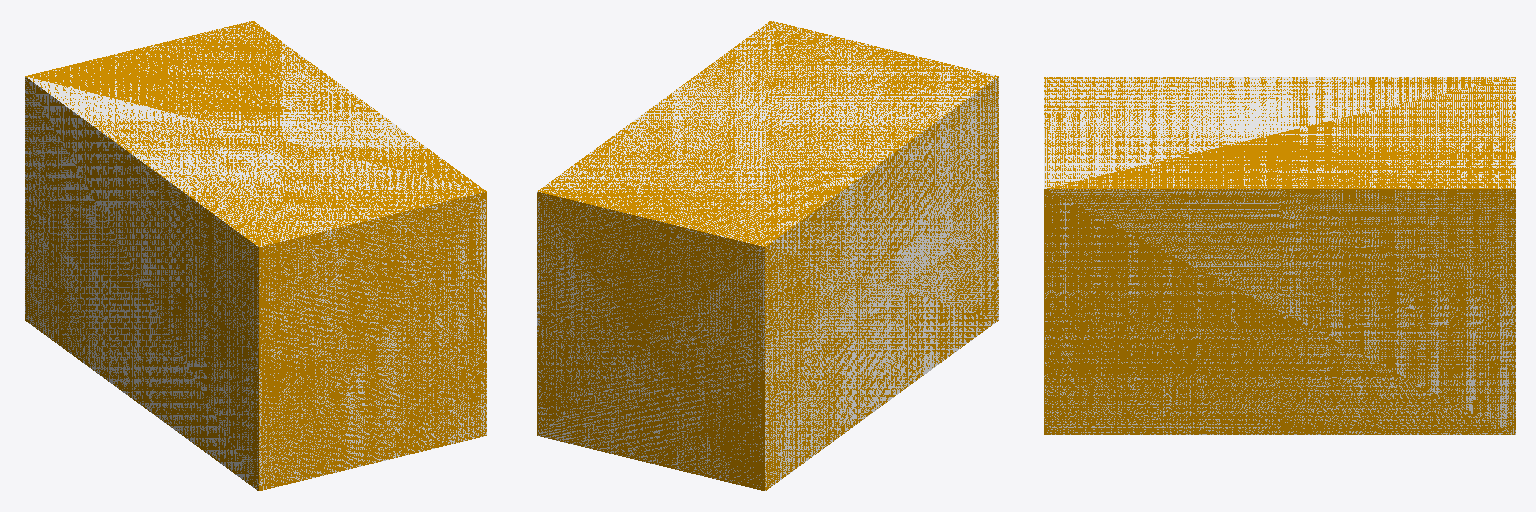
The robot description file, URDF, robot "my_object":
<?xml version="1.0" ?> 
<robot name="my_object" static="true">
  <link name="base_link">
  <inertial>
    <mass value="0.013" />
    <origin xyz="0 0 0.0" />
    <inertia ixx="1.0" ixy="0.0" ixz="0.0" iyy="1.0" iyz="0.0" izz="1.0"/>
  </inertial>
  <visual>
   <origin xyz="0 0 0.0" rpy="0 0 0" />
   <geometry>
     <mesh filename="package://cob_gazebo_objects/Media/models/medication_cetebe_empty.dae"/>
   </geometry>
  </visual>
  <collision>
   <origin xyz="0 0 0" rpy="0 0 0" />
   <geometry>
     <box size="0.057 0.102 0.059" />
   </geometry>
  </collision>     
  </link>

<gazebo>
	<static>true</static>
</gazebo>
</robot>

--- Facts derived from the render (not from the file) ---
3 views of the same robot in one strip: view 1: azimuth 30°, elevation 25°; view 2: azimuth 150°, elevation 25°; view 3: azimuth 270°, elevation 25° (orthographic).
Robot: my_object — 1 links, 0 joints (none); root link base_link; default pose: every joint at zero.
Links seen in each view (by area): view 1: base_link; view 2: base_link; view 3: base_link.
Boxes of the visible links, x1,y1,x2,y2 form: base_link: (25,21,486,490); base_link: (537,21,998,490); base_link: (1044,77,1515,434).
Bounding box of the posed robot: 0.0015 × 0.0026 × 0.0015 m (x, y, z).
Meshes: 1 distinct files referenced, 1 mesh visuals loaded (1 Collada DAE).